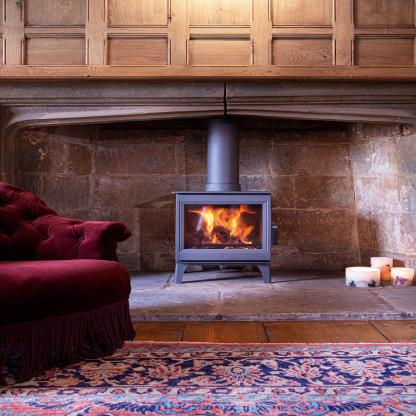fire: (181, 206, 263, 247)
